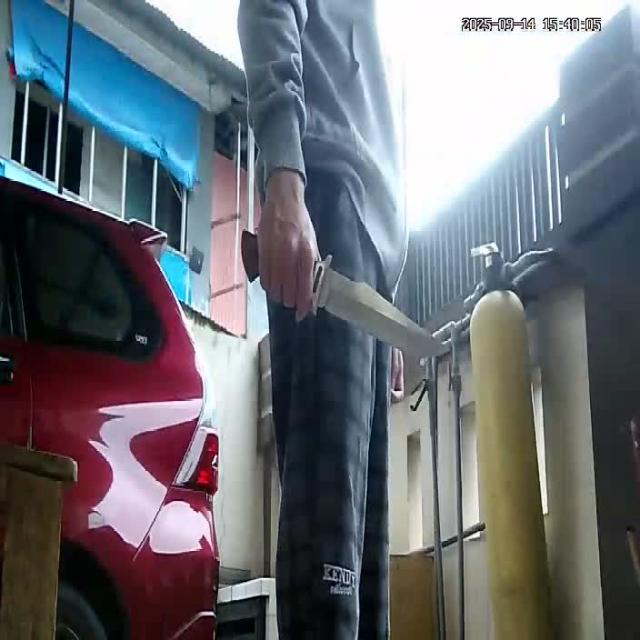senjata_tajam: (314, 250, 452, 360)
